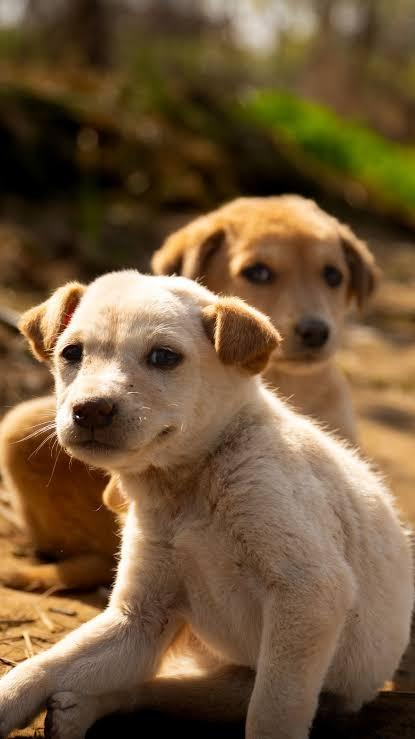puppy-dog: (0, 270, 415, 739), (1, 194, 382, 593)
